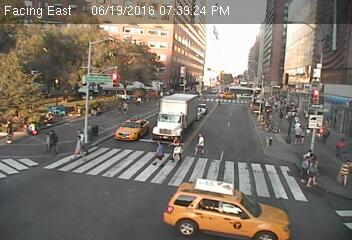neg: (92, 179, 118, 214), (173, 188, 198, 221), (276, 56, 300, 88), (204, 73, 226, 103), (28, 39, 50, 68), (92, 29, 113, 56), (83, 71, 103, 98), (19, 90, 39, 116), (220, 35, 239, 61), (133, 75, 150, 98), (264, 132, 280, 153), (20, 187, 36, 208)
pos: (324, 154, 351, 190), (165, 134, 188, 164), (147, 139, 170, 168), (70, 136, 91, 164), (43, 128, 63, 154), (190, 132, 209, 159), (74, 126, 87, 143)
